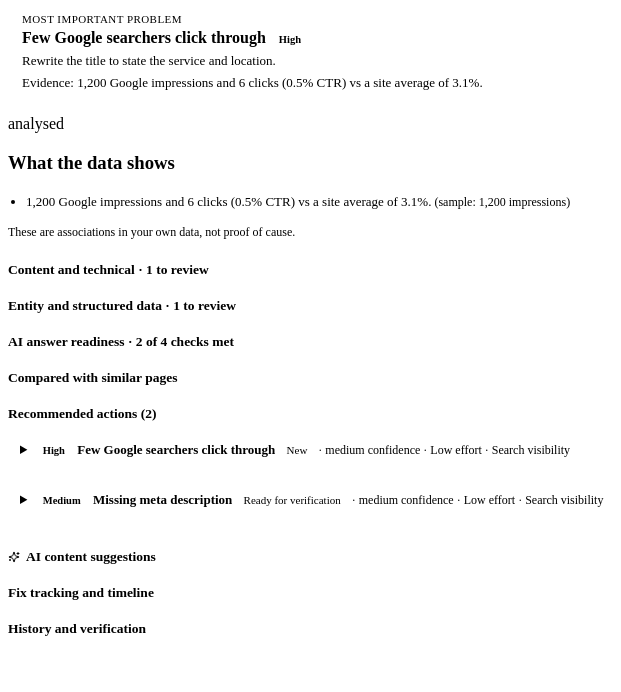
Test: AI suggestions › aren't offered when AI isn't configured
Click the heading "AI content suggestions": (82, 557) [8, 549, 156, 564]
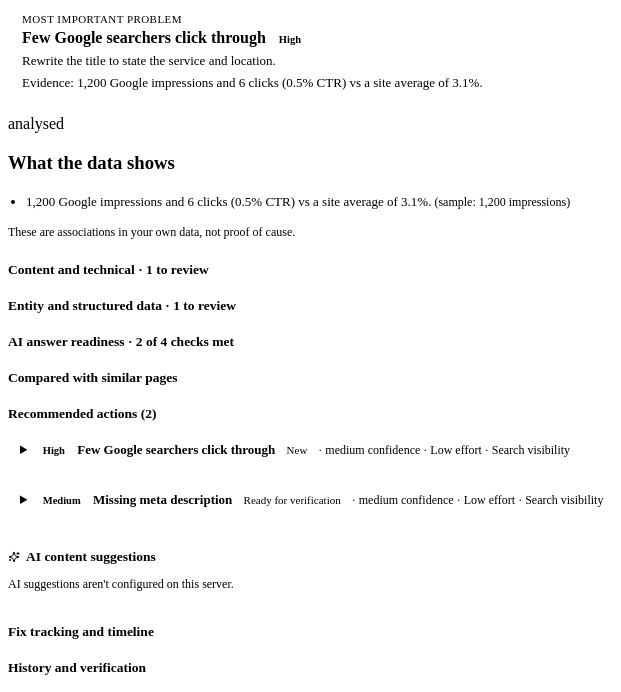
Check: the text "AI suggestions aren't configured on this server." is shown, box [8, 577, 234, 591]
